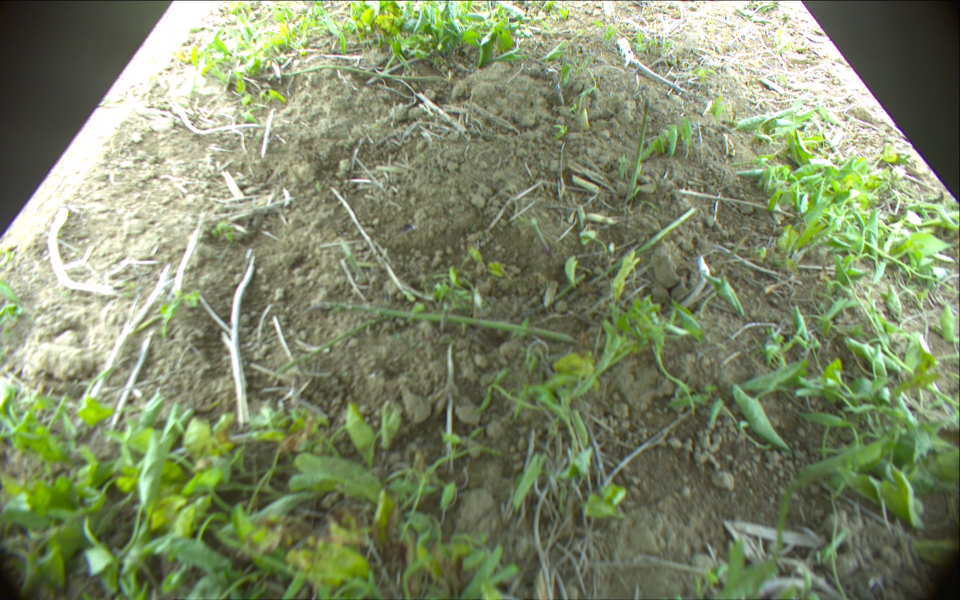aspa: (312, 298, 575, 341), (583, 206, 696, 286), (263, 64, 447, 82), (629, 97, 654, 201)
